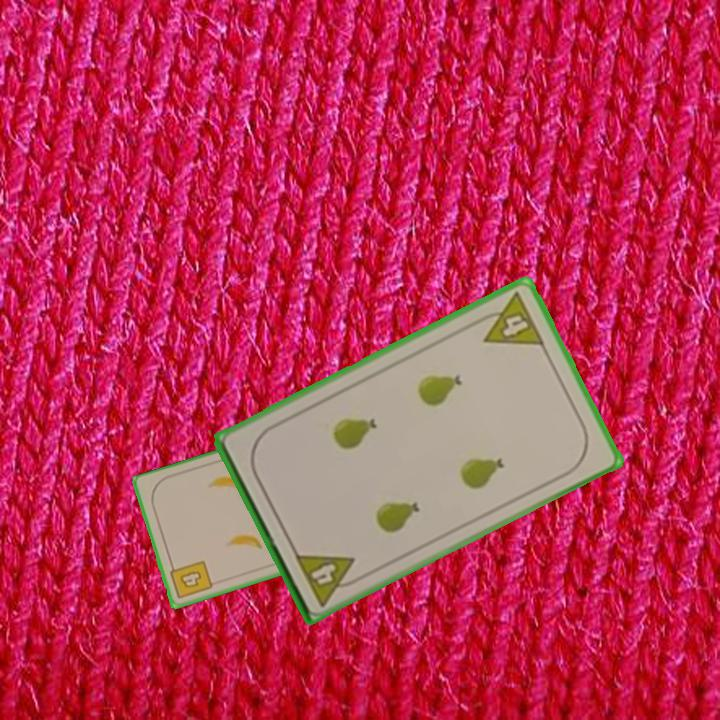4b: (166, 557, 215, 602)
4p: (471, 288, 548, 349), (291, 549, 365, 609)
